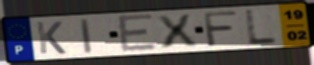E: (115, 13, 159, 55)
F: (201, 10, 240, 49)
I: (79, 17, 95, 55)
K: (34, 20, 68, 56)
L: (244, 8, 281, 47)
X: (154, 13, 200, 50)
